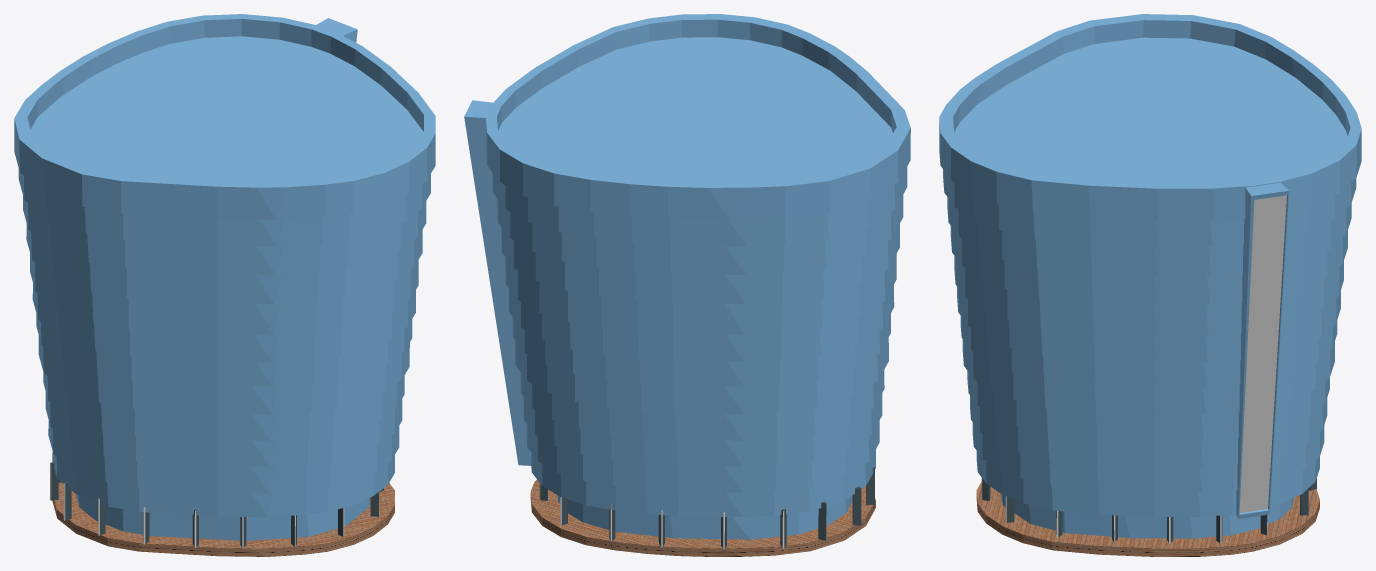
Rendered from Glass_Tower1.glb.
The picture shows the model from 3 angles, left to right: view 1: azimuth 30°, elevation 25°; view 2: azimuth 150°, elevation 25°; view 3: azimuth 270°, elevation 25°; orthographic projection.
Visible parts, largest first — view 1: Cylinder.319, Cylinder.315, Cylinder.317, Cylinder.316, Cylinder.318, Cylinder.314, Cylinder.312, Cylinder.311, Cylinder.310, Cylinder.313, Cylinder.309, Cylinder.308 (+3 smaller); view 2: Cylinder.319, Cylinder.315, Cylinder.317, Cylinder.316, Cylinder.318, Cylinder.314, Cylinder.312, Cylinder.311, Cylinder.310, Cylinder.313, Cylinder.309, Cylinder.308 (+4 smaller); view 3: Cylinder.319, Cube.019, Cylinder.315, Cylinder.317, Cylinder.316, Cylinder.318, Cylinder.314, Cylinder.312, Cylinder.311, Cylinder.310, Cylinder.309, Cylinder.313 (+4 smaller).
Part boxes in pixels (x1,y1,x2,y2): Cylinder.319: (14,14,435,219); Cylinder.315: (30,253,418,335); Cylinder.317: (23,196,426,275); Cylinder.316: (26,224,422,304); Cylinder.318: (18,168,430,246); Cylinder.314: (32,283,415,362); Cylinder.312: (38,335,409,414); Cylinder.311: (43,372,404,440); Cylinder.310: (45,392,402,466); Cylinder.313: (36,314,412,386); Cylinder.309: (48,420,399,492); Cylinder.308: (52,452,394,517); Cylinder.319: (485,14,910,220); Cylinder.315: (505,254,896,335); Cylinder.317: (496,195,903,274); Cylinder.316: (501,224,899,303); Cylinder.318: (491,167,907,246); Cylinder.314: (508,285,894,362); Cylinder.312: (515,338,888,414); Cylinder.311: (520,370,884,440); Cylinder.310: (523,393,882,466); Cylinder.313: (512,314,890,386); Cylinder.309: (526,421,879,492); Cylinder.308: (531,449,875,516); Cylinder.319: (939,14,1361,221); Cube.019: (1236,182,1288,519); Cylinder.315: (954,256,1343,335); Cylinder.317: (947,197,1351,275); Cylinder.316: (950,226,1347,304); Cylinder.318: (943,169,1356,246); Cylinder.314: (957,287,1340,362); Cylinder.312: (962,339,1334,414); Cylinder.311: (967,371,1329,440); Cylinder.310: (970,395,1327,466); Cylinder.309: (972,422,1324,492); Cylinder.313: (960,316,1337,386).
Bounding box in the file's own units: 0.4478 × 0.4429 × 0.4406.
Materials: 5 (1 with a texture image).
